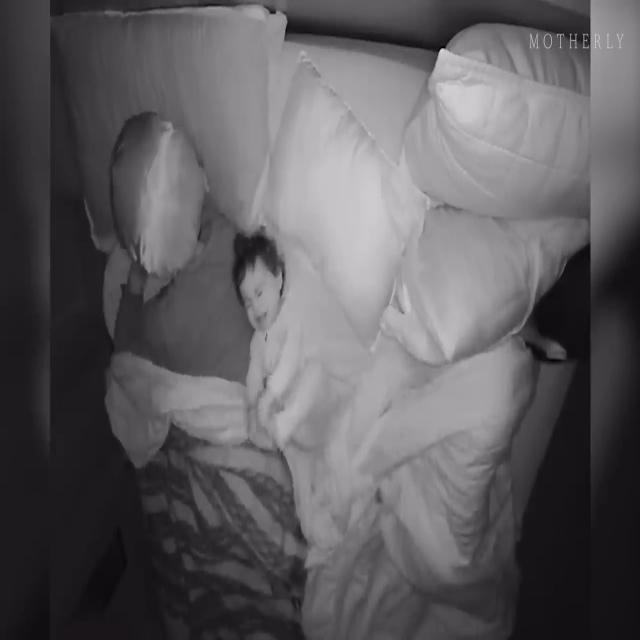baby: (229, 223, 330, 456)
